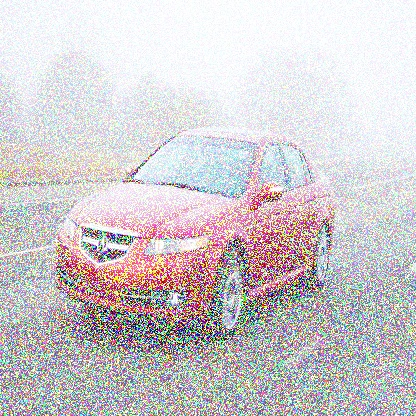Vehicle: (56, 129, 336, 342)
